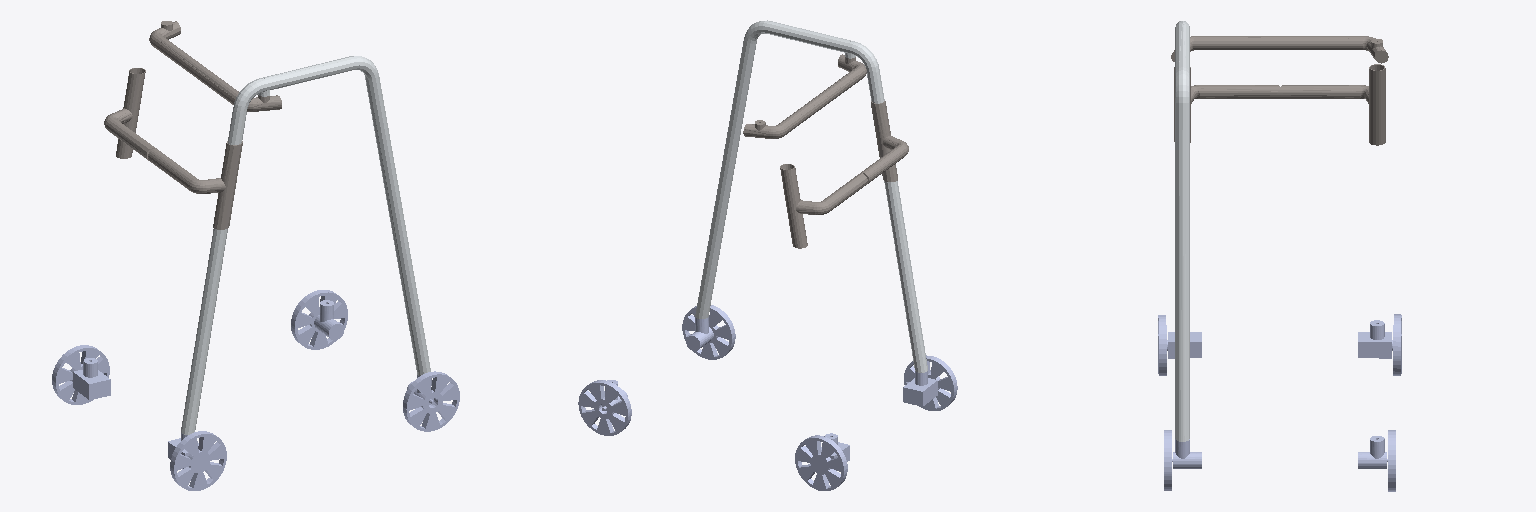
robot.urdf — walker:
<robot
  name="walker">
  <link
    name="base_link">
    <inertial>
      <origin
        xyz="-0.0493651591543752 0.608500074024073 0.487914726043467"
        rpy="0 0 0" />
      <mass
        value="0.737133234483516" />
      <inertia
        ixx="0.0203164743598328"
        ixy="-0.00320087679768777"
        ixz="-5.15643442755873E-06"
        iyy="0.0175417975416245"
        iyz="-2.43284445486126E-05"
        izz="0.00761195051607928" />
    </inertial>
    <visual>
      <origin
        xyz="0 0 0"
        rpy="0 0 0" />
      <geometry>
        <mesh
          filename="package://walker/meshes/base_link.STL" />
      </geometry>
      <material
        name="">
        <color
          rgba="0.643137254901961 0.615686274509804 0.6 1" />
      </material>
    </visual>
    <collision>
      <origin
        xyz="0 0 0"
        rpy="0 0 0" />
      <geometry>
        <mesh
          filename="package://walker/meshes/base_link.STL" />
      </geometry>
    </collision>
  </link>
  <link
    name="side1">
    <inertial>
      <origin
        xyz="-0.000302109073418266 0.0350794866250518 -6.18465189672346E-07"
        rpy="0 0 0" />
      <mass
        value="1.25320173083073" />
      <inertia
        ixx="0.0726021859080119"
        ixy="0.000112340528461026"
        ixz="-8.62416304597843E-08"
        iyy="0.052324927087735"
        iyz="-1.18870695965004E-07"
        izz="0.124786157673895" />
    </inertial>
    <visual>
      <origin
        xyz="0 0 0"
        rpy="0 0 0" />
      <geometry>
        <mesh
          filename="package://walker/meshes/side1.STL" />
      </geometry>
      <material
        name="">
        <color
          rgba="0.894117647058823 0.913725490196078 0.929411764705882 1" />
      </material>
    </visual>
    <collision>
      <origin
        xyz="0 0 0"
        rpy="0 0 0" />
      <geometry>
        <mesh
          filename="package://walker/meshes/side1.STL" />
      </geometry>
    </collision>
  </link>
  <joint
    name="side1_frame"
    type="fixed">
    <origin
      xyz="0.132694854546502 -0.287220458811985 0.384744920401555"
      rpy="1.5707963267949 0 0" />
    <parent
      link="base_link" />
    <child
      link="side1" />
    <axis
      xyz="0 0 0" />
  </joint>
  <link
    name="stand1">
    <inertial>
      <origin
        xyz="-0.0411059934712464 0.00606177996094787 -0.20040708718715"
        rpy="0 0 0" />
      <mass
        value="0.248882707927513" />
      <inertia
        ixx="0.0182255893585729"
        ixy="8.52841209235053E-06"
        ixz="-0.000260729804600482"
        iyy="0.0182585045262154"
        iyz="0.000128904167511977"
        izz="0.000164978494307141" />
    </inertial>
    <visual>
      <origin
        xyz="0 0 0"
        rpy="0 0 0" />
      <geometry>
        <mesh
          filename="package://walker/meshes/stand1.STL" />
      </geometry>
      <material
        name="">
        <color
          rgba="0.792156862745098 0.819607843137255 0.933333333333333 1" />
      </material>
    </visual>
    <collision>
      <origin
        xyz="0 0 0"
        rpy="0 0 0" />
      <geometry>
        <mesh
          filename="package://walker/meshes/stand1.STL" />
      </geometry>
    </collision>
  </link>
  <joint
    name="stand1_wheel"
    type="fixed">
    <origin
      xyz="-0.283191212677328 -0.4475 0.0399888125259962"
      rpy="3.14159265358979 -1.54714469308726 3.14159265358979" />
    <parent
      link="side1" />
    <child
      link="stand1" />
    <axis
      xyz="0 0 0" />
  </joint>
  <link
    name="wheel1">
    <inertial>
      <origin
        xyz="0.00733957522717466 3.80762109032651E-06 -0.281375365689952"
        rpy="0 0 0" />
      <mass
        value="0.30691537590687" />
      <inertia
        ixx="0.024969091512902"
        ixy="7.71783919381543E-10"
        ixz="-6.0916307713361E-05"
        iyy="0.0246408399422944"
        iyz="3.28820164669294E-07"
        izz="0.000341798071468766" />
    </inertial>
    <visual>
      <origin
        xyz="0 0 0"
        rpy="0 0 0" />
      <geometry>
        <mesh
          filename="package://walker/meshes/wheel1.STL" />
      </geometry>
      <material
        name="">
        <color
          rgba="0.792156862745098 0.819607843137255 0.933333333333333 1" />
      </material>
    </visual>
    <collision>
      <origin
        xyz="0 0 0"
        rpy="0 0 0" />
      <geometry>
        <mesh
          filename="package://walker/meshes/wheel1.STL" />
      </geometry>
    </collision>
  </link>
  <joint
    name="two_wheel1"
    type="fixed">
    <origin
      xyz="-0.0899999999999999 0 0"
      rpy="0 -6.24500451351651E-17 0" />
    <parent
      link="stand1" />
    <child
      link="wheel1" />
    <axis
      xyz="0 0 0" />
  </joint>
  <link
    name="side2">
    <inertial>
      <origin
        xyz="-0.000302109073421042 0.0350794866250502 -6.18465189838879E-07"
        rpy="0 0 0" />
      <mass
        value="1.25320173083073" />
      <inertia
        ixx="0.0726021859080116"
        ixy="0.000112340528460586"
        ixz="-8.62416304655625E-08"
        iyy="0.0523249270877351"
        iyz="-1.18870695980576E-07"
        izz="0.124786157673894" />
    </inertial>
    <visual>
      <origin
        xyz="0 0 0"
        rpy="0 0 0" />
      <geometry>
        <mesh
          filename="package://walker/meshes/side2.STL" />
      </geometry>
      <material
        name="">
        <color
          rgba="0.894117647058823 0.913725490196078 0.929411764705882 1" />
      </material>
    </visual>
    <collision>
      <origin
        xyz="0 0 0"
        rpy="0 0 0" />
      <geometry>
        <mesh
          filename="package://walker/meshes/side2.STL" />
      </geometry>
    </collision>
  </link>
  <joint
    name="side2_frame"
    type="fixed">
    <origin
      xyz="0.132694854546502 -0.68945309872627 0.384744920401555"
      rpy="1.5707963267949 0 0" />
    <parent
      link="base_link" />
    <child
      link="side2" />
    <axis
      xyz="0 0 0" />
  </joint>
  <link
    name="stand2">
    <inertial>
      <origin
        xyz="-0.00110599434639125 -0.0439382196623821 0.200407097748839"
        rpy="0 0 0" />
      <mass
        value="0.248882712378205" />
      <inertia
        ixx="0.0182255906789842"
        ixy="8.5284177303851E-06"
        ixz="0.000260729972070186"
        iyy="0.0182585058550433"
        iyz="-0.000128904261882963"
        izz="0.00016497850331528" />
    </inertial>
    <visual>
      <origin
        xyz="0 0 0"
        rpy="0 0 0" />
      <geometry>
        <mesh
          filename="package://walker/meshes/stand2.STL" />
      </geometry>
      <material
        name="">
        <color
          rgba="0.792156862745098 0.819607843137255 0.933333333333333 1" />
      </material>
    </visual>
    <collision>
      <origin
        xyz="0 0 0"
        rpy="0 0 0" />
      <geometry>
        <mesh
          filename="package://walker/meshes/stand2.STL" />
      </geometry>
    </collision>
  </link>
  <joint
    name="stand2_wheel"
    type="continuous">
    <origin
      xyz="-0.282245235531346 -0.3975 0"
      rpy="3.14159265358979 1.54714469308726 3.14159265358979" />
    <parent
      link="side2" />
    <child
      link="stand2" />
    <axis
      xyz="0 1 0" />
  </joint>
  <link
    name="wheel2">
    <inertial>
      <origin
        xyz="-0.0423056833430825 -0.0499961923789098 0.266379560992705"
        rpy="0 0 0" />
      <mass
        value="0.306915375906869" />
      <inertia
        ixx="0.0249690915129019"
        ixy="7.71783919373383E-10"
        ixz="6.09163077133593E-05"
        iyy="0.0246408399422943"
        iyz="-3.28820164668724E-07"
        izz="0.000341798071468765" />
    </inertial>
    <visual>
      <origin
        xyz="0 0 0"
        rpy="0 0 0" />
      <geometry>
        <mesh
          filename="package://walker/meshes/wheel2.STL" />
      </geometry>
      <material
        name="">
        <color
          rgba="0.792156862745098 0.819607843137255 0.933333333333333 1" />
      </material>
    </visual>
    <collision>
      <origin
        xyz="0 0 0"
        rpy="0 0 0" />
      <geometry>
        <mesh
          filename="package://walker/meshes/wheel2.STL" />
      </geometry>
    </collision>
  </link>
  <joint
    name="two_wheel2"
    type="continuous">
    <origin
      xyz="-0.000354741429743233 0 0.0149958046972486"
      rpy="0 -3.46944695195361E-18 0" />
    <parent
      link="stand2" />
    <child
      link="wheel2" />
    <axis
      xyz="0 1 0" />
  </joint>
</robot>

--- What the picture shows (computed from the rendered views, not written in the file) ---
Views: 3 orthographic renders of the robot side by side, from view 1: azimuth 30°, elevation 25°; view 2: azimuth 150°, elevation 25°; view 3: azimuth 270°, elevation 25°.
Model walker with 7 links and 6 joints (2 continuous, 4 fixed), rooted at base_link, posed every joint at zero.
Visible links, largest first — view 1: side2, base_link, wheel2, wheel1, stand1; view 2: side2, base_link, wheel1, wheel2, stand2; view 3: base_link, side2, stand1, stand2, wheel1, wheel2.
Link boxes in pixels (box(x1,y1,x2,y2)): side2: box(181, 56, 430, 434); base_link: box(104, 21, 281, 229); wheel2: box(170, 371, 459, 490); wheel1: box(52, 290, 347, 404); stand1: box(73, 300, 343, 399); side2: box(695, 20, 927, 372); base_link: box(743, 54, 908, 248); wheel1: box(578, 380, 847, 490); wheel2: box(682, 305, 957, 410); stand2: box(686, 317, 937, 406); base_link: box(1171, 36, 1388, 145); side2: box(1175, 21, 1189, 441); stand1: box(1358, 320, 1401, 468); stand2: box(1158, 332, 1201, 468); wheel1: box(1388, 314, 1401, 491); wheel2: box(1158, 315, 1171, 490).
Bounding box of the posed robot: 0.6908 × 0.5052 × 0.8787 m (x, y, z).
Meshes: 7 distinct files referenced, 6 mesh visuals loaded (6 binary STL); not drawn: 1 (reference not matched to a file when rendering).
